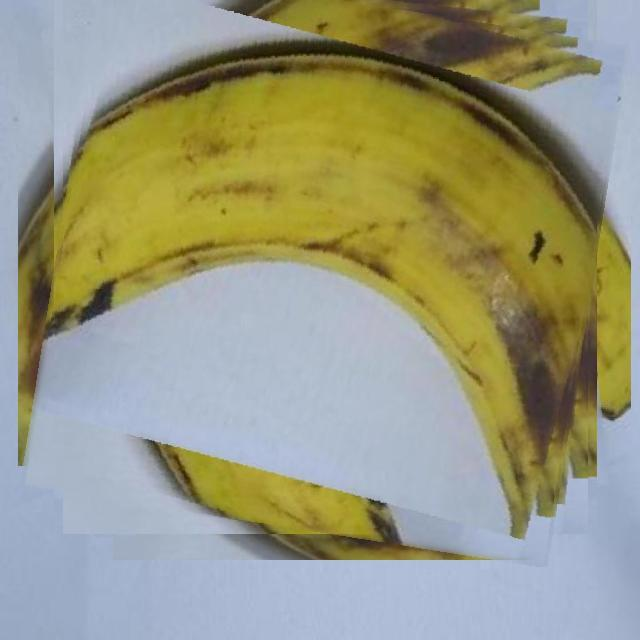Muito Madura: (39, 0, 611, 548)
